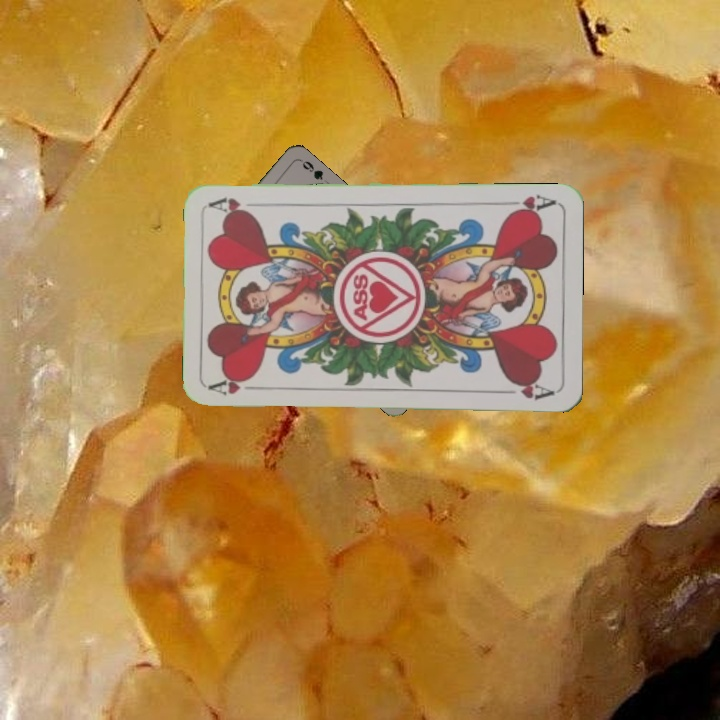HA: (498, 190, 557, 217), (207, 375, 266, 398)
